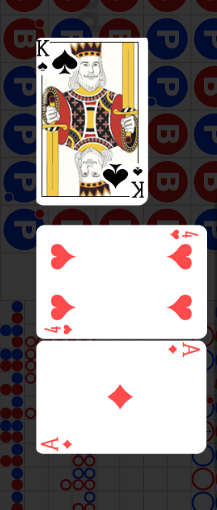4H: (168, 228, 199, 241)
AD: (165, 343, 201, 360)
